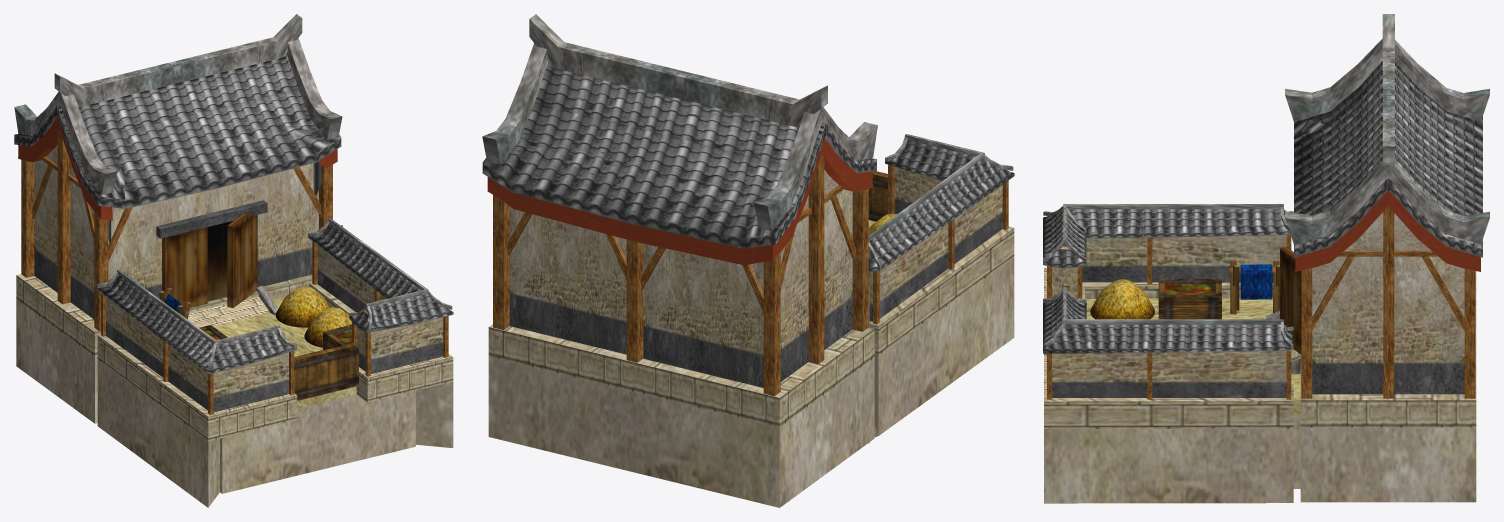
File: corral.dae
3 views of the same model, side by side, from view 1: azimuth 30°, elevation 25°; view 2: azimuth 150°, elevation 25°; view 3: azimuth 270°, elevation 25° (orthographic). The views are drawn at different scales.
Parts seen in each view (by area): view 1: corral; view 2: corral; view 3: corral.
Boxes of the visible parts, <box> form: corral: <box>14,14,453,507</box>; corral: <box>482,14,1014,507</box>; corral: <box>1043,14,1489,503</box>.
Size of the model in its own units: 12.66 by 17.86 by 16.69.
